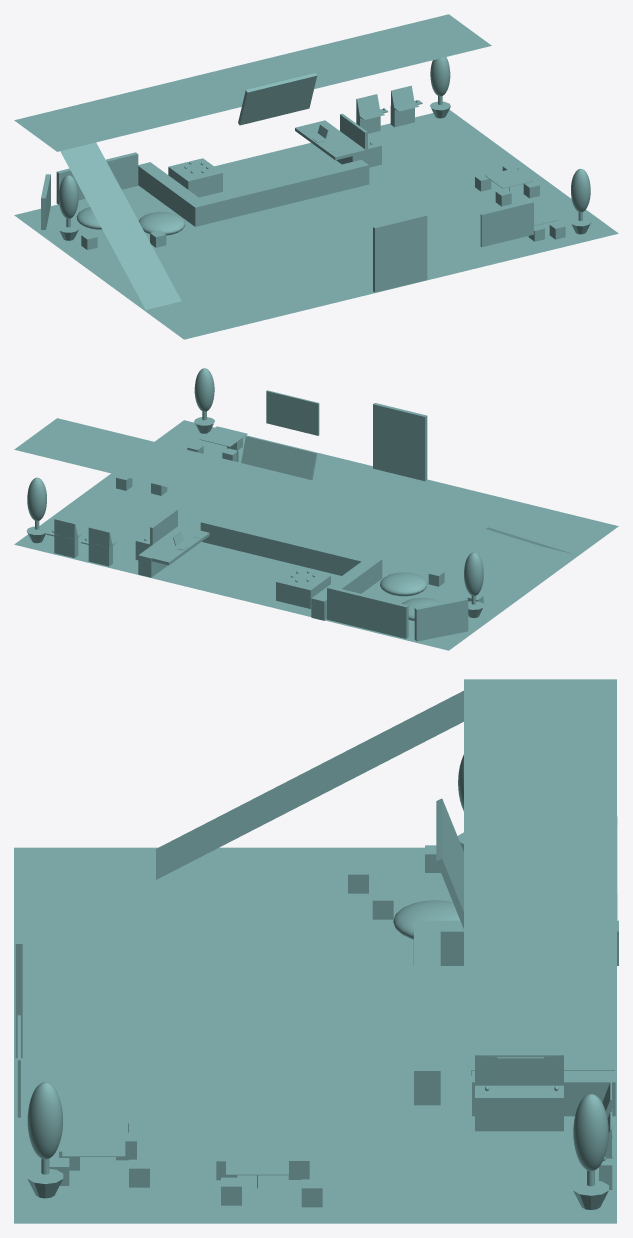
The picture shows the model from 3 angles, top to bottom: view 1: azimuth 30°, elevation 25°; view 2: azimuth 150°, elevation 25°; view 3: azimuth 270°, elevation 25°; orthographic projection. The views are drawn at different scales.
Visible parts, largest first — view 1: pPlane1, pasted__pPlane1, pPlane2, pCube2, pCube4, pCube8, pasted__pCube8, pasted__pCube4, pCube9, pasted__pSphere3 (×2), pCube7, pasted__pCube13 (+8 smaller); view 2: pPlane1, pasted__pPlane1, pCube2, pCube4, pCube7, pCube8, pasted__pCube7, pasted__pCube4, pasted__pCube8, pCube9, pasted__pSphere3 (×2), pasted__pSphere2 (+7 smaller); view 3: pPlane1, pasted__pPlane1, pPlane2, pCube2, pCube6, pasted__pCube6, pSphere3, pasted__pSphere3, pCube8, pCube3, pCube5, pasted__pCube5 (+6 smaller).
Part boxes in pixels (box(x1,y1,x2,y2)): pPlane1: box(14, 109, 618, 339); pasted__pPlane1: box(14, 14, 491, 151); pPlane2: box(60, 142, 181, 309); pCube2: box(201, 159, 369, 223); pCube4: box(373, 214, 427, 292); pCube8: box(238, 73, 317, 125); pasted__pCube8: box(138, 162, 208, 226); pasted__pCube4: box(480, 201, 533, 247); pCube9: box(168, 158, 222, 197); pasted__pSphere3 (×2): box(58, 57, 450, 218); pCube7: box(56, 152, 138, 204); pasted__pCube13: box(390, 85, 422, 127); pPlane1: box(14, 420, 618, 650); pasted__pPlane1: box(14, 418, 491, 555); pCube2: box(200, 517, 368, 575); pCube4: box(373, 403, 427, 481); pCube7: box(327, 586, 408, 638); pCube8: box(241, 436, 316, 480); pasted__pCube7: box(414, 598, 468, 641); pasted__pCube4: box(266, 390, 319, 435); pasted__pCube8: box(311, 556, 382, 620); pCube9: box(276, 567, 330, 608); pasted__pSphere3 (×2): box(27, 477, 483, 595); pasted__pSphere2: box(380, 572, 427, 596); pPlane1: box(14, 847, 616, 1223); pasted__pPlane1: box(464, 679, 616, 1055); pPlane2: box(156, 690, 463, 879); pCube2: box(414, 931, 440, 1105); pCube6: box(475, 1085, 563, 1131); pasted__pCube6: box(475, 1055, 563, 1085); pSphere3: box(27, 1082, 62, 1159); pasted__pSphere3: box(573, 1094, 608, 1170); pCube8: box(436, 798, 463, 928); pCube3: box(472, 1071, 615, 1116); pCube5: box(62, 1129, 125, 1156); pasted__pCube5: box(226, 1148, 288, 1175).
Size of the model in its own units: 21.21 by 5.51 by 14.42.
